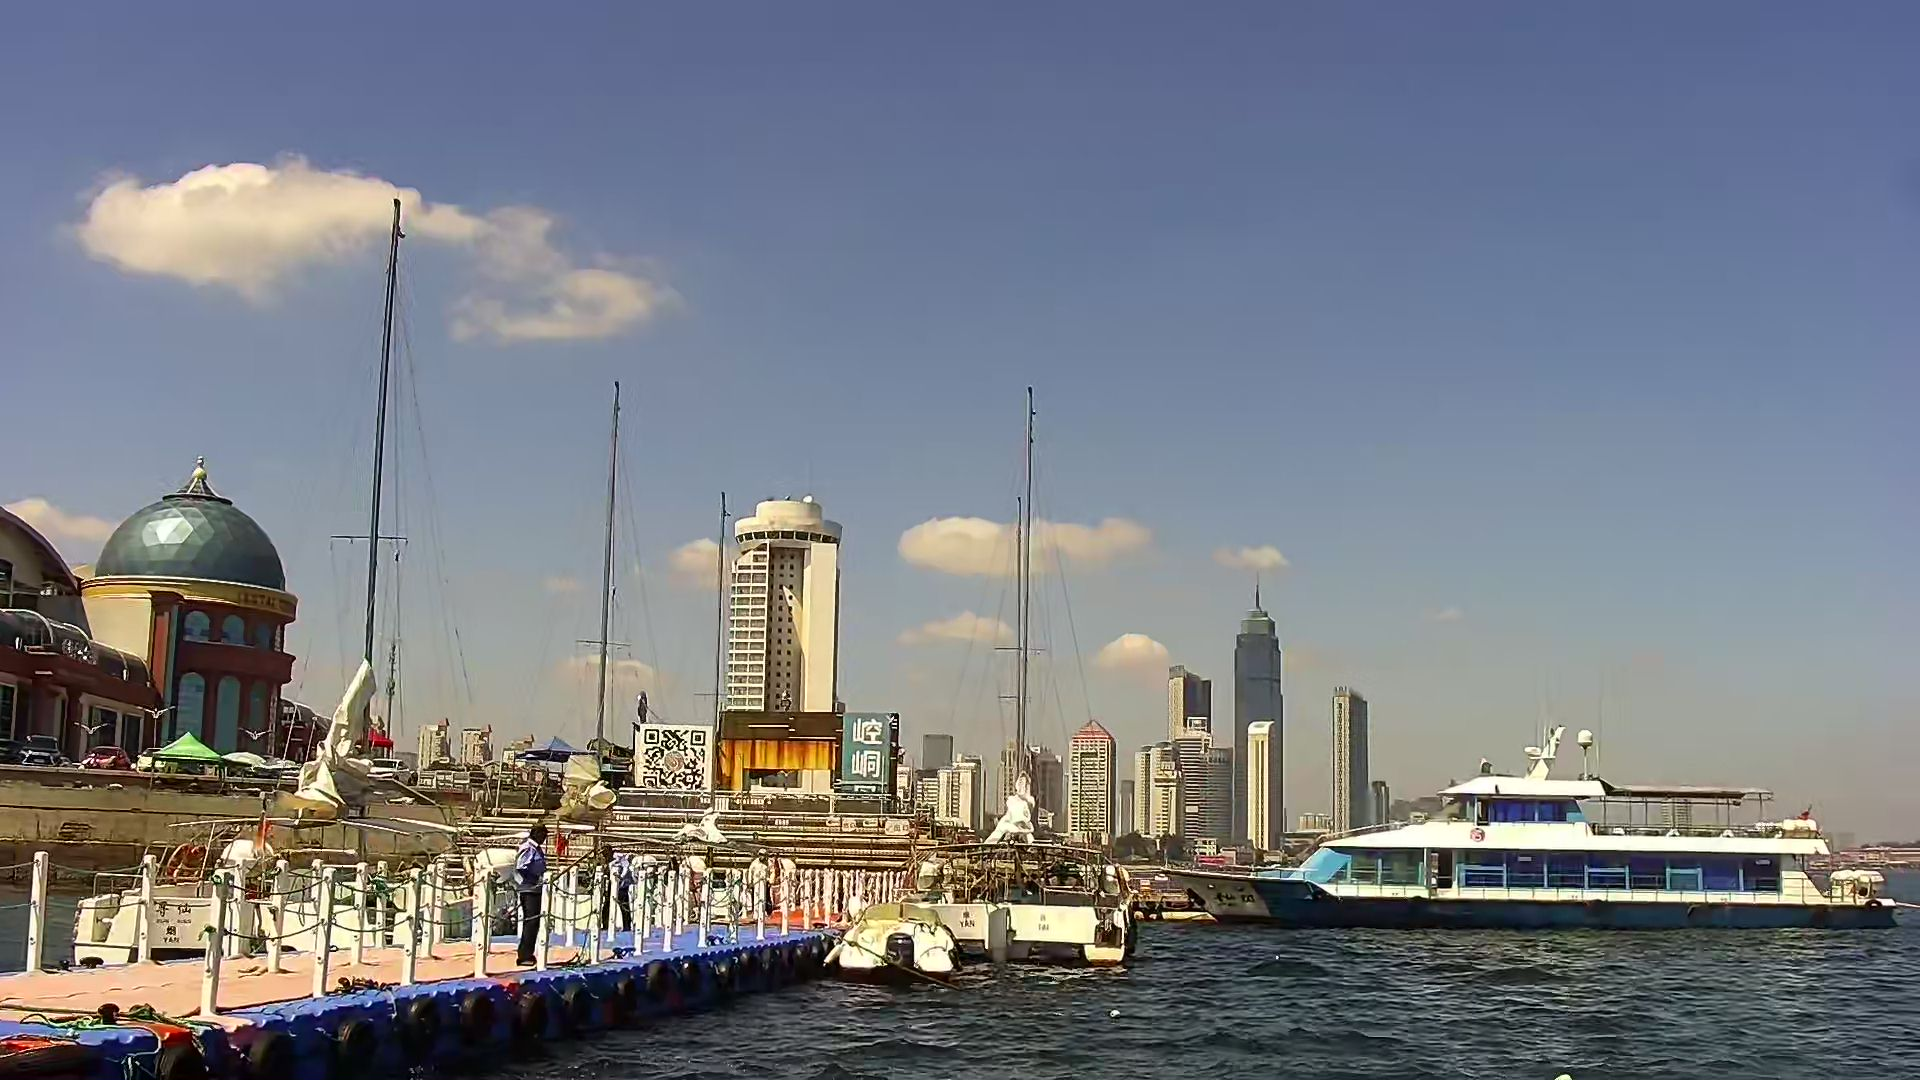boat: (70, 187, 510, 963), (886, 368, 1149, 969), (843, 905, 971, 981)
harbor: (22, 835, 800, 1059)
ship: (1180, 725, 1902, 931)
